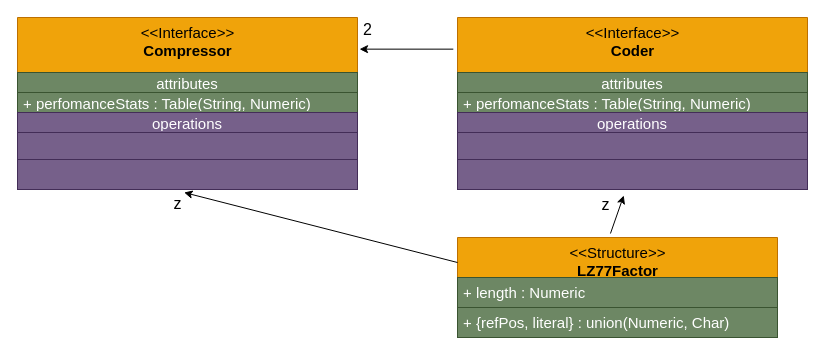
This 825x355 diagram has some shape labels left out. Here are the shapes that lost their labels. From the top down, the centre of each, then its label:
(x=187, y=146): +compress(decoder : Coder, encoder : Coder)
(x=632, y=146): +encode(output : FileStream, data : LZ77Factor[])
(x=187, y=174): +decompress(decoder : Coder, encoder : Coder)
(x=632, y=174): +decode(input : FileStream) : LZ77Factor[]
